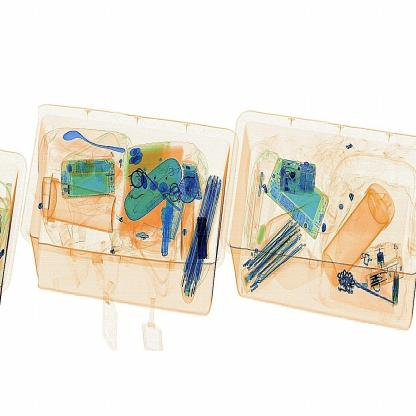scissors: (191, 208, 221, 266)
